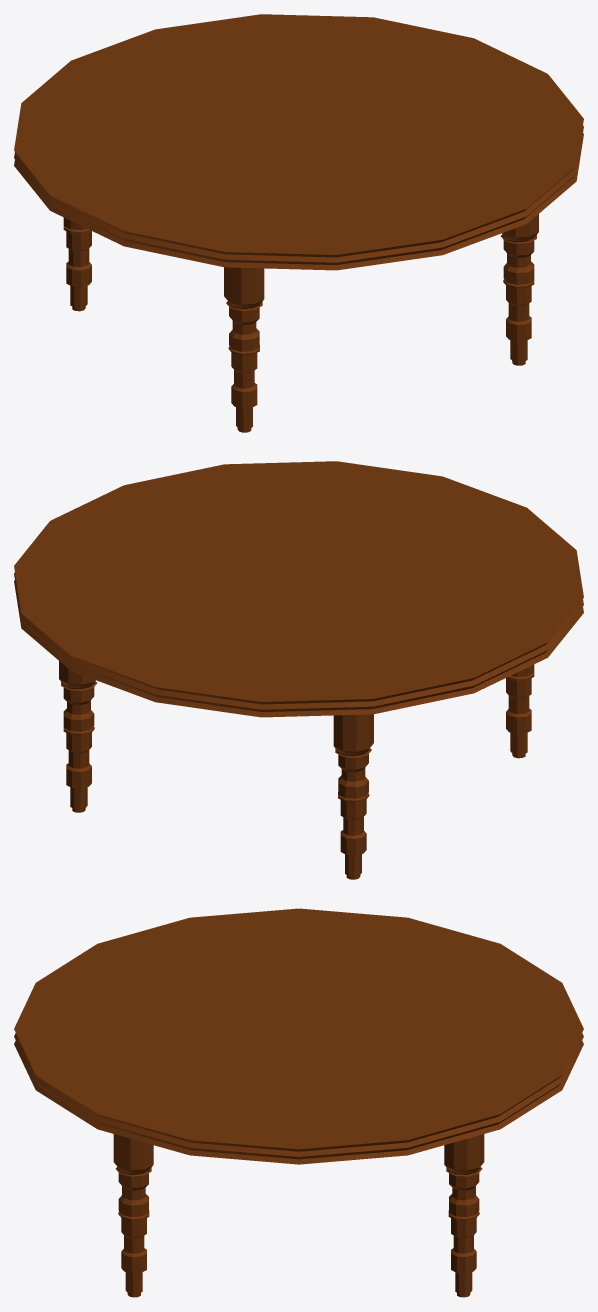
Rendered from MesaCirc.fbx.
The picture shows the model from 3 angles, top to bottom: view 1: azimuth 30°, elevation 25°; view 2: azimuth 150°, elevation 25°; view 3: azimuth 270°, elevation 25°; orthographic projection.
Visible parts, largest first — view 1: MesaCirc.001; view 2: MesaCirc.001; view 3: MesaCirc.001.
Boxes of the visible parts, x1,y1,x2,y2 form: MesaCirc.001: (14, 14, 583, 432); MesaCirc.001: (14, 461, 583, 879); MesaCirc.001: (14, 908, 583, 1297).
Size of the model in its own units: 865 by 334 by 865.
